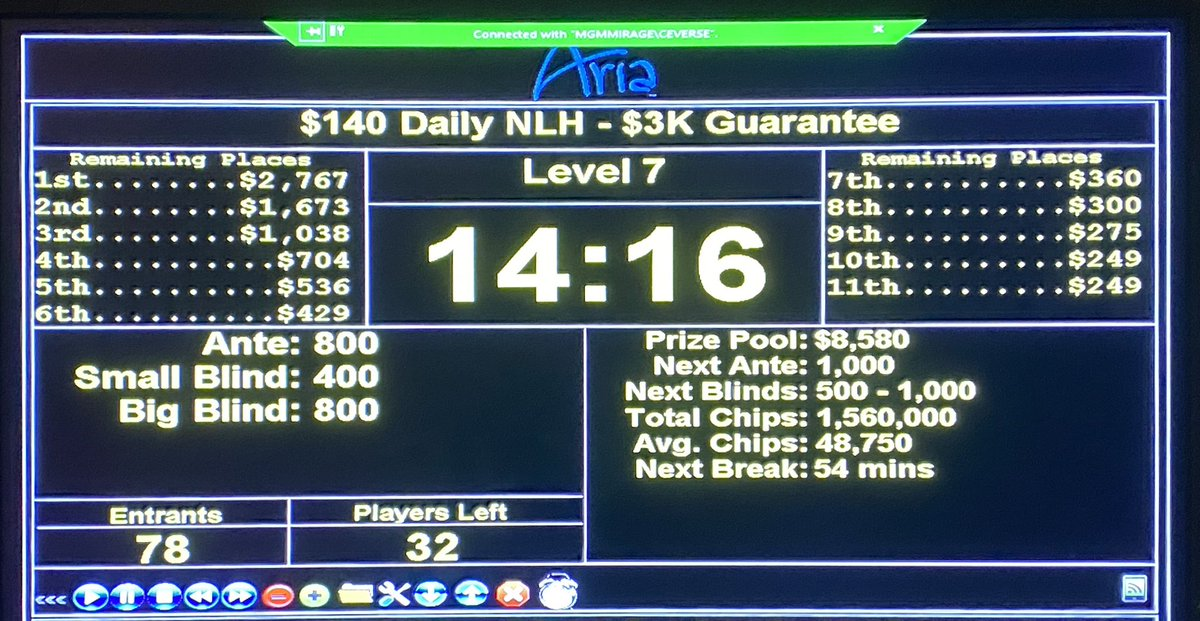PlayersLeft: (286, 494, 589, 567)
Remaining: (26, 147, 370, 331), (820, 144, 1160, 326)
TournamentClock: (20, 101, 1160, 574)
